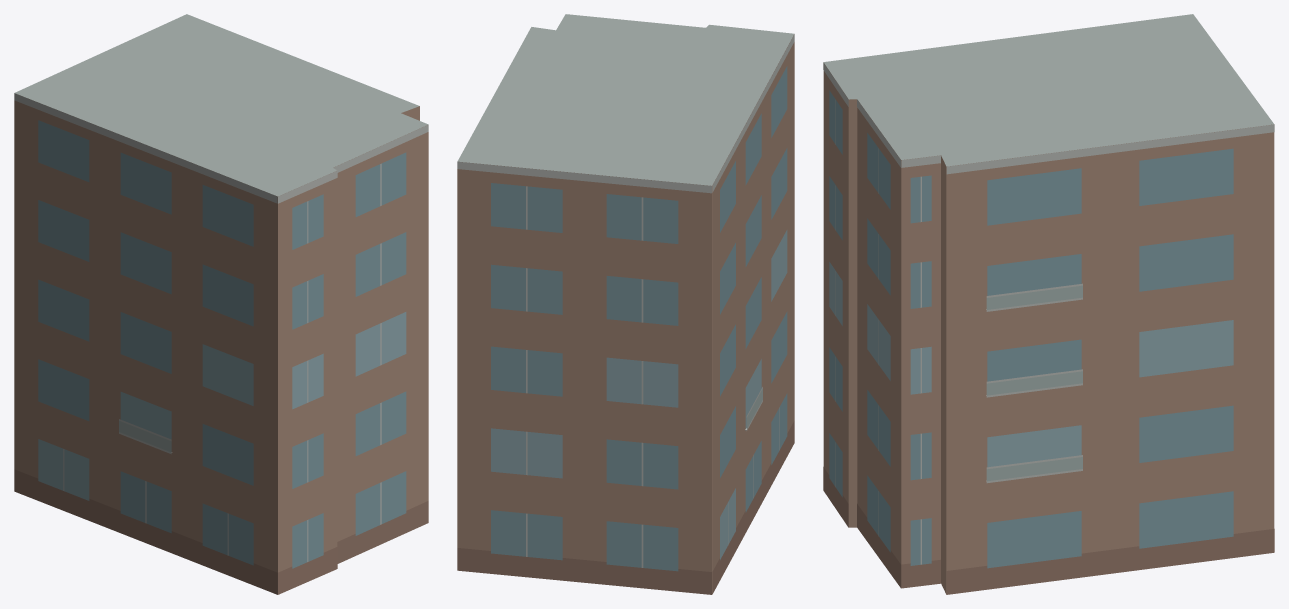
Rendered from survey-upis-32987471.glb.
3 renders of one model, left to right at view 1: azimuth 30°, elevation 25°; view 2: azimuth 150°, elevation 25°; view 3: azimuth 270°, elevation 25°, orthographic. The views are drawn at different scales.
Visible parts, largest first — view 1: survey-upis-32987471.tmp; view 2: survey-upis-32987471.tmp; view 3: survey-upis-32987471.tmp.
Part boxes in pixels (x1,y1,x2,y2): survey-upis-32987471.tmp: (14, 14, 428, 594); survey-upis-32987471.tmp: (457, 14, 794, 594); survey-upis-32987471.tmp: (823, 14, 1274, 594).
Bounding box in the file's own units: 10.19 × 13.33 × 12.73.
